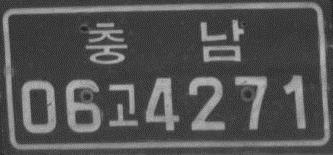0: (18, 77, 58, 136)
1: (281, 74, 310, 130)
2: (184, 74, 227, 132)
4: (143, 76, 181, 133)
6: (63, 77, 103, 134)
7: (232, 74, 270, 131)
고: (107, 81, 140, 129)
충남_D: (84, 16, 244, 67)
